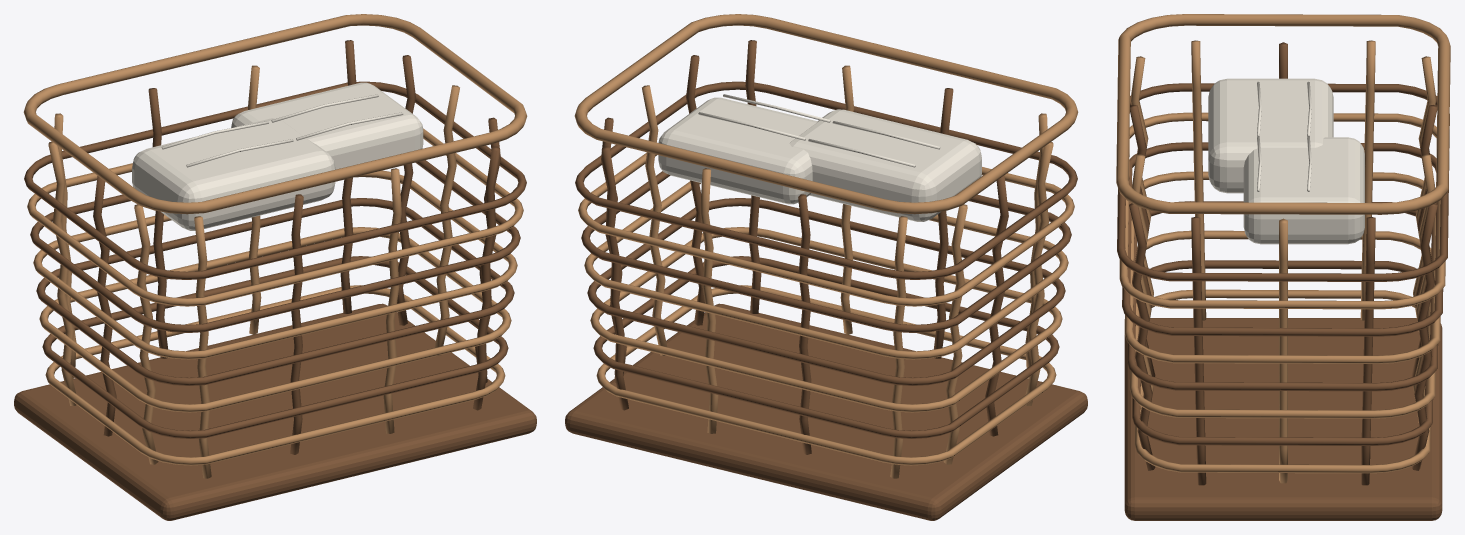
File: restroom_woven_amenity_basket.fbx
3 views of the same model, side by side, from view 1: azimuth 30°, elevation 25°; view 2: azimuth 150°, elevation 25°; view 3: azimuth 270°, elevation 25° (orthographic). The views are drawn at different scales.
Visible parts, largest first — view 1: restroom_woven_amenity_basket; view 2: restroom_woven_amenity_basket; view 3: restroom_woven_amenity_basket.
Part boxes in pixels (x1,y1,x2,y2): restroom_woven_amenity_basket: (14, 14, 536, 520); restroom_woven_amenity_basket: (565, 14, 1087, 520); restroom_woven_amenity_basket: (1116, 14, 1450, 520).
Bounding box in the file's own units: 0.22 × 0.17 × 0.16.
